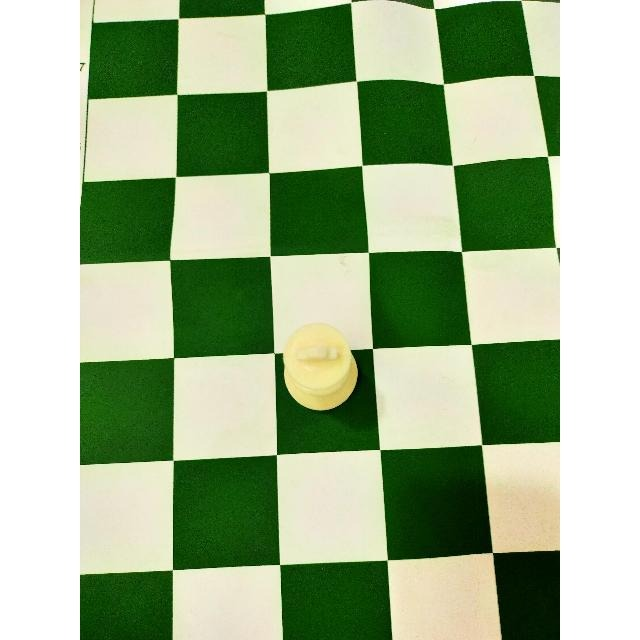white-king: (272, 314, 365, 418)
